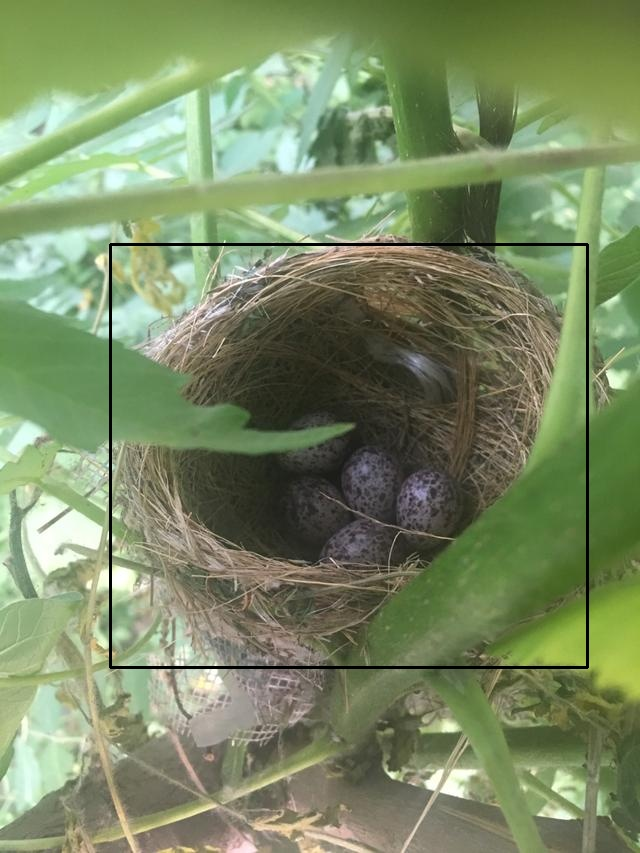bird-nest: (110, 244, 587, 667)
